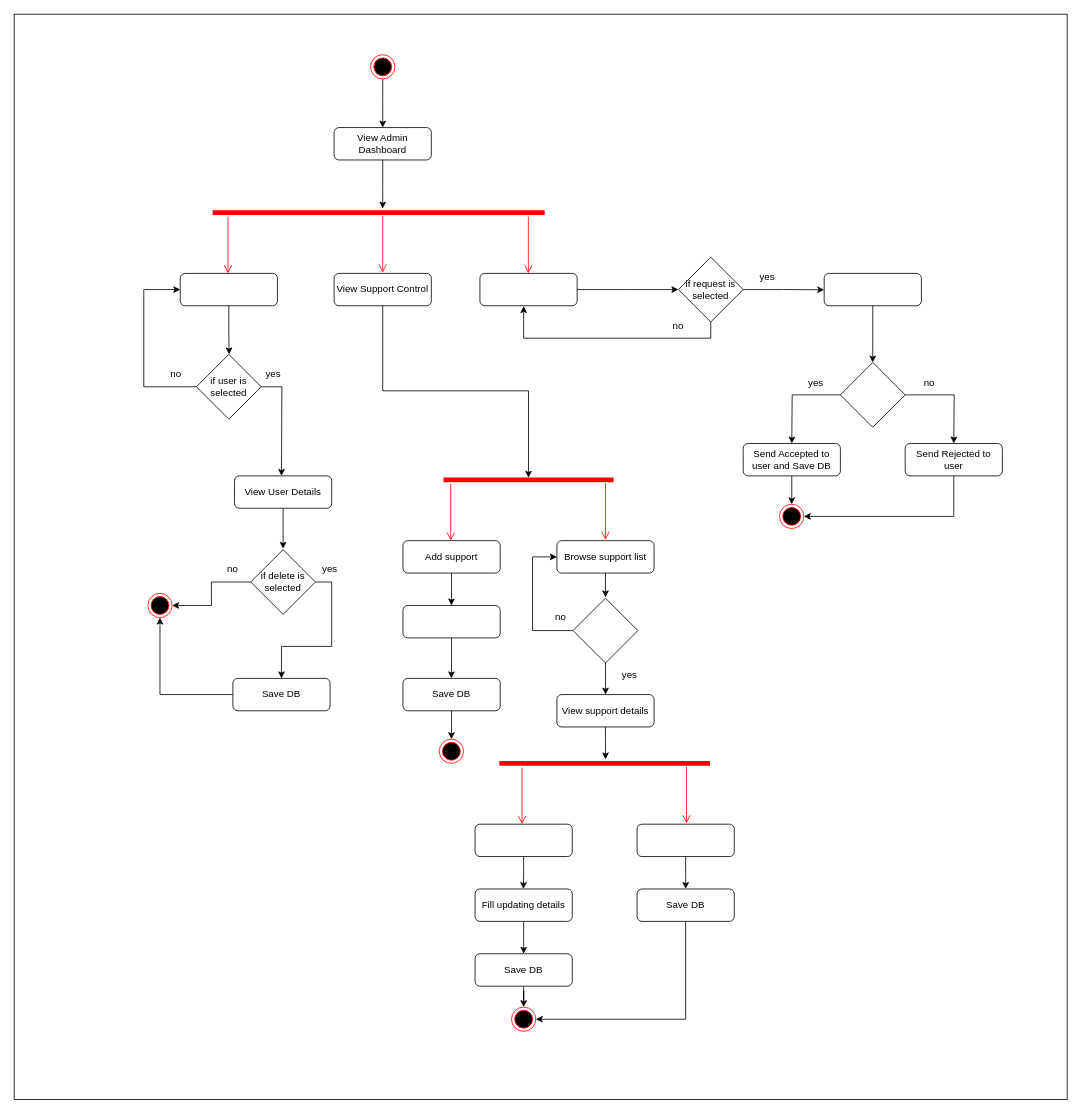
This 1081x1114 diagram has some shape labels left out. Each missing label, with the box of its shape:
Delete support: (636, 823, 734, 857)
Fill support details: (402, 605, 500, 638)
if request accepted: (840, 362, 905, 427)
if support is selected: (572, 597, 638, 663)
Update support: (474, 823, 572, 857)
View Publishing Requests: (479, 273, 577, 306)
View Request details: (823, 273, 921, 306)
View Users List: (179, 273, 277, 306)
